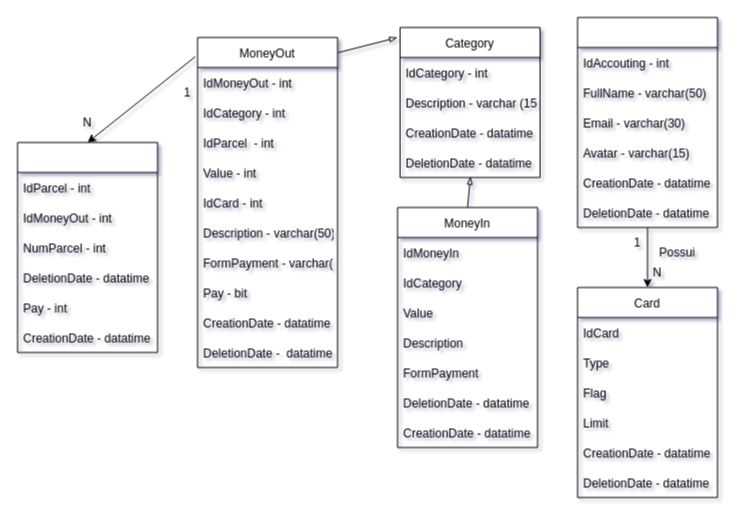
This 741x521 diagram has some shape labels left out. Each missing label, with the box of its shape:
Account: (576, 16, 718, 228)
MoneyOutParcel: (16, 142, 158, 352)
